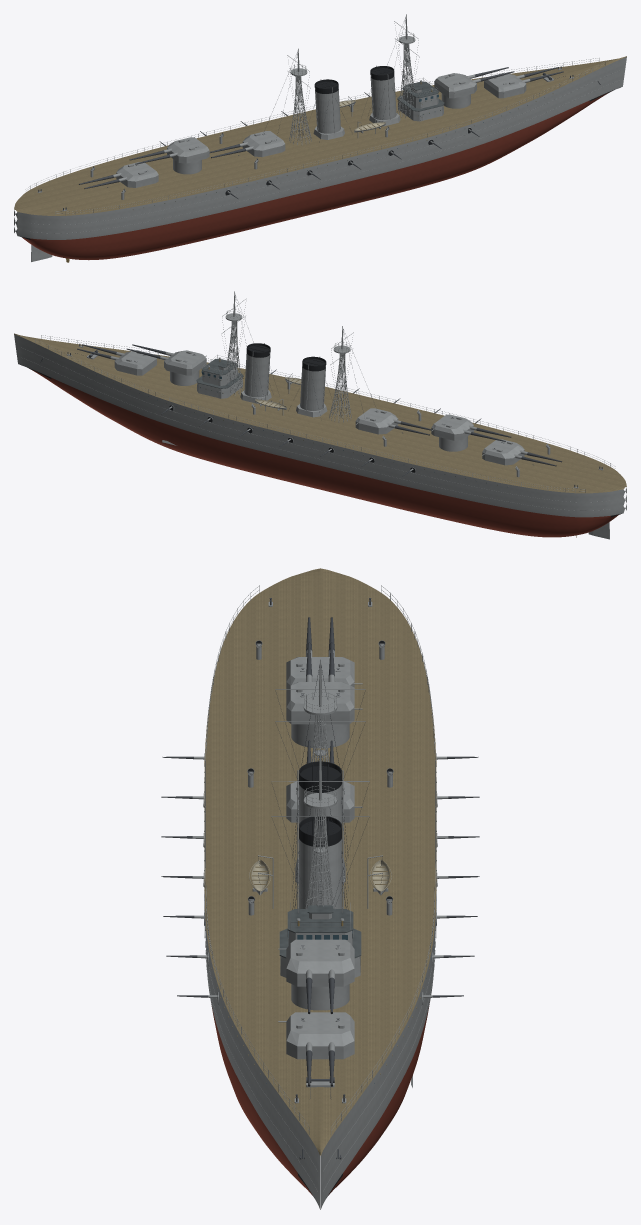
The model's file is delaware.glb.
The picture shows the model from 3 angles, top to bottom: view 1: azimuth 30°, elevation 25°; view 2: azimuth 150°, elevation 25°; view 3: azimuth 270°, elevation 25°; orthographic projection. The views are drawn at different scales.
Parts seen in each view (by area): view 1: Delaware class; view 2: Delaware class; view 3: Delaware class.
Part boxes in pixels (box(x1,y1,x2,y2)): Delaware class: box(14, 14, 626, 262); Delaware class: box(14, 291, 626, 539); Delaware class: box(161, 568, 479, 1209).
Size of the model in its own units: 158 by 39.29 by 35.63.
Materials: 9 (8 with a texture image).
